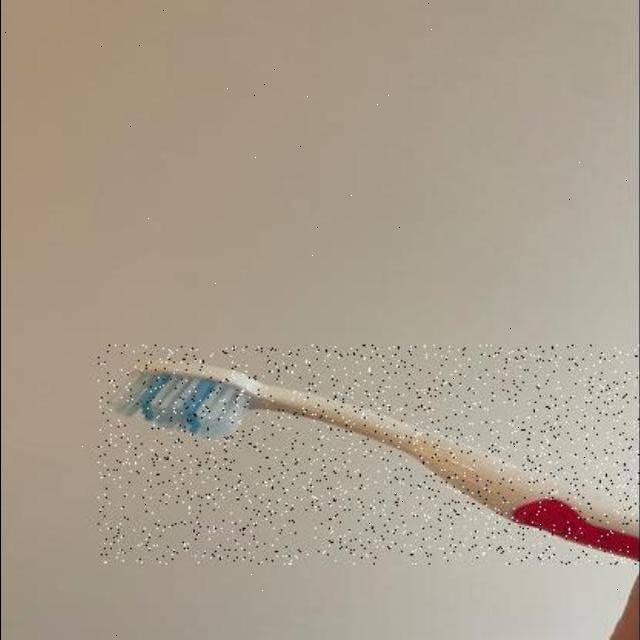toothbrush: (98, 345, 640, 565)
